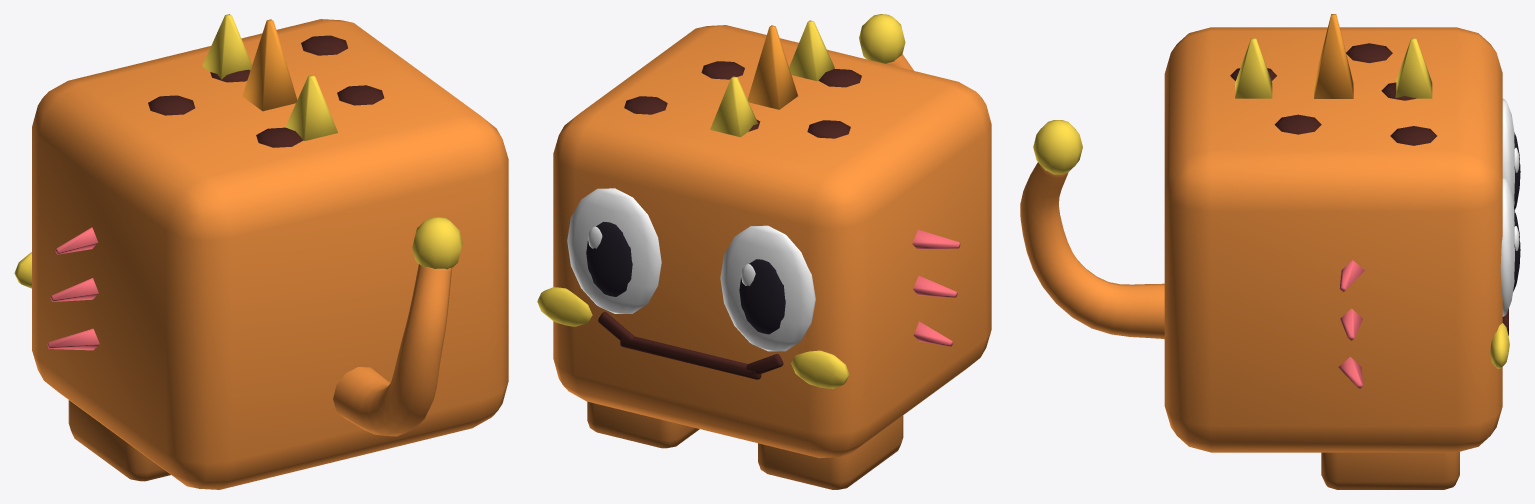
Rendered from pet_salamander.fbx.
3 renders of one model, left to right at view 1: azimuth 30°, elevation 25°; view 2: azimuth 150°, elevation 25°; view 3: azimuth 270°, elevation 25°, orthographic. The views are drawn at different scales.
Visible parts, largest first — view 1: pet_salamander; view 2: pet_salamander; view 3: pet_salamander.
Part boxes in pixels (box(x1,y1,x2,y2)): pet_salamander: box(14, 14, 508, 489); pet_salamander: box(537, 14, 991, 489); pet_salamander: box(1020, 14, 1520, 489).
Size of the model in its own units: 2.61 by 2.57 by 2.81.
Materials: 1 (1 with a texture image).
